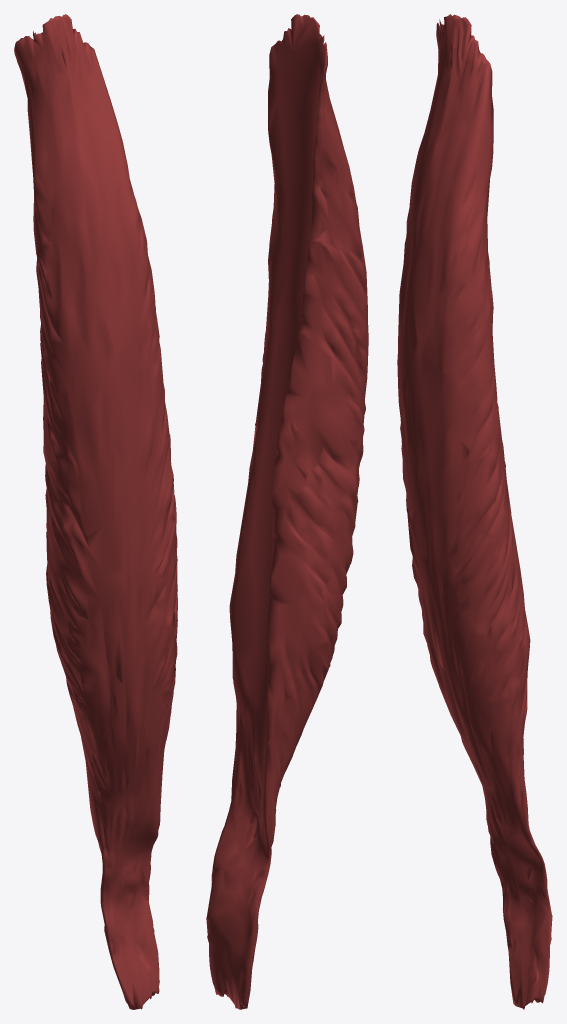
The model's file is vastus-intermedius-muscle-r.glb.
The picture shows the model from 3 angles, left to right: view 1: azimuth 30°, elevation 25°; view 2: azimuth 150°, elevation 25°; view 3: azimuth 330°, elevation 25°; orthographic projection. The views are drawn at different scales.
Visible parts, largest first — view 1: Vastus intermedius muscle.r; view 2: Vastus intermedius muscle.r; view 3: Vastus intermedius muscle.r.
Part boxes in pixels (x1,y1,x2,y2): Vastus intermedius muscle.r: [14, 14, 177, 1009]; Vastus intermedius muscle.r: [206, 14, 368, 1009]; Vastus intermedius muscle.r: [397, 14, 552, 1009].
Size of the model in its own units: 0.0566 by 0.4084 by 0.0478.
